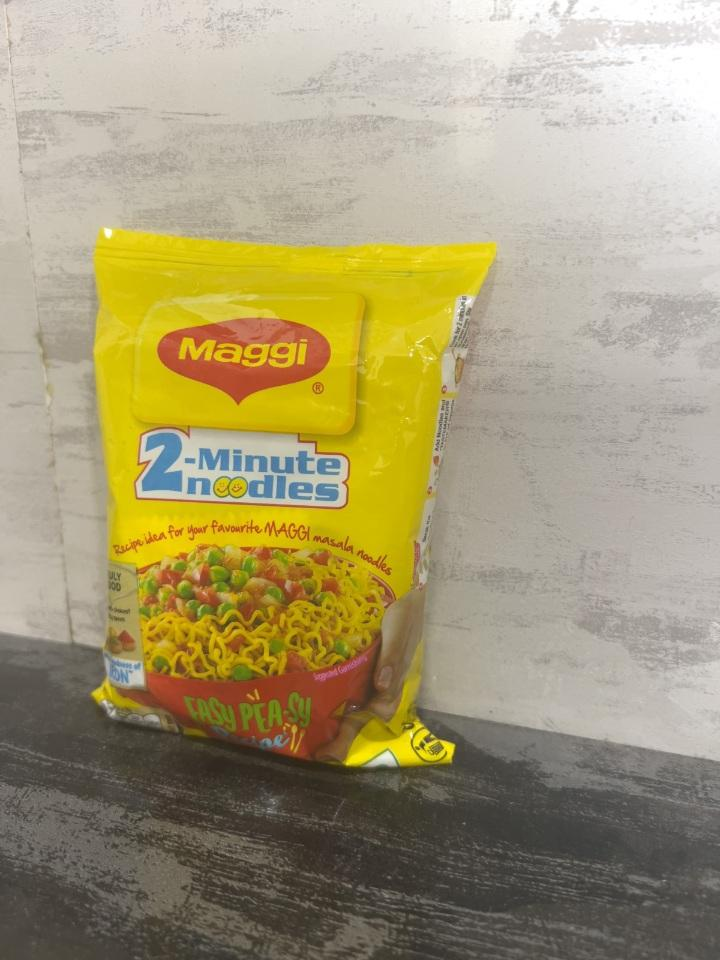Maggi: (85, 228, 506, 765)
